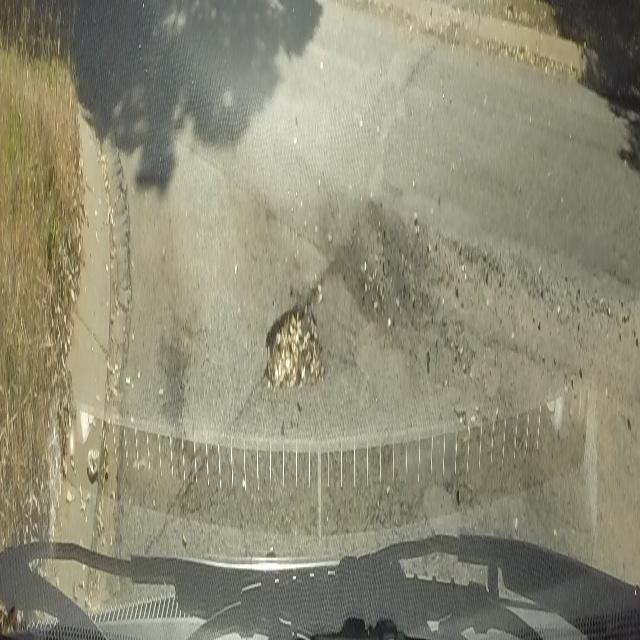pothole: (258, 282, 329, 388)
